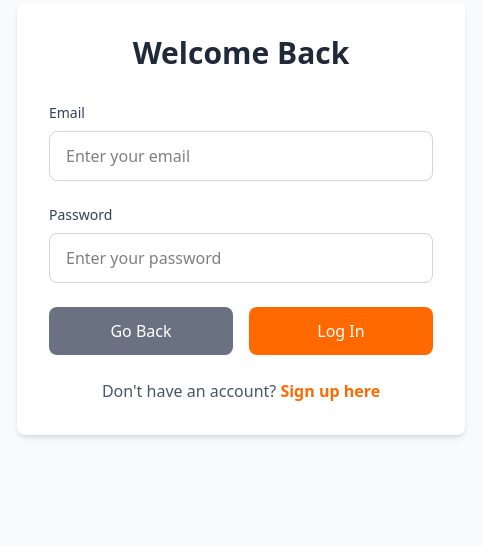
Login Component › handles network error gracefully
Step 1. Type "test@example.com" into the field labelled "Email" → (241, 156), box [49,131,433,181]
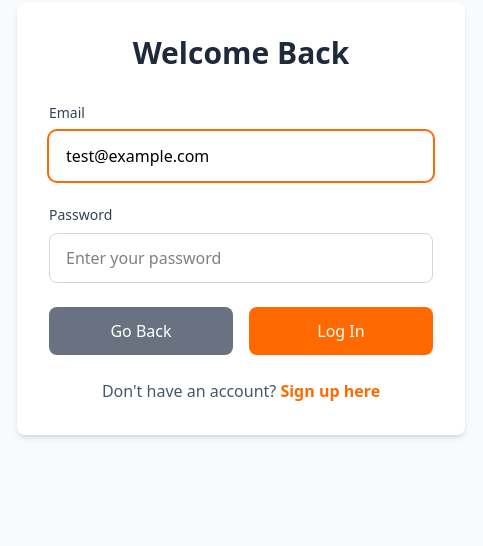
Step 2. Type "password123" into the password field labelled "Password" → (241, 258), box [49,233,433,283]
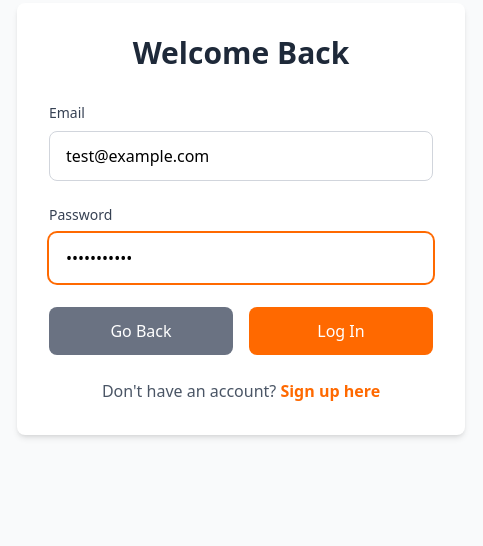
Step 3. Click the button "Log In" → (341, 331), box [249,307,433,355]
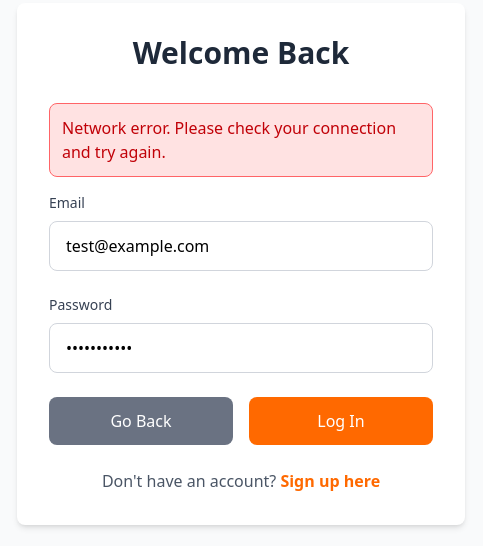
Expected: the text "Network error. Please check your connection and try again." is shown, [49,103,433,177]
